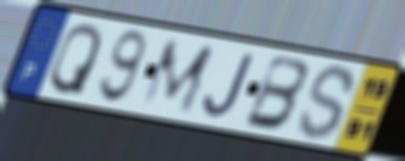9: (97, 27, 151, 107)
B: (240, 52, 313, 133)
J: (200, 50, 259, 121)
M: (137, 38, 218, 116)
Q: (47, 21, 105, 98)
S: (295, 62, 359, 143)
